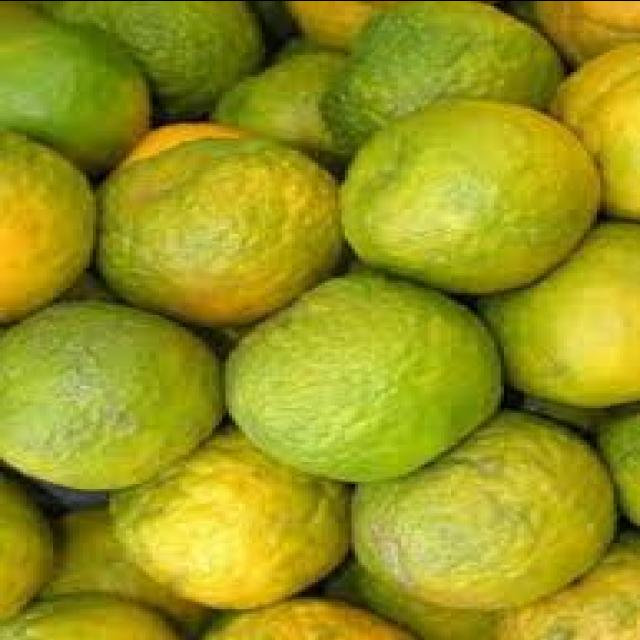orange: (223, 266, 501, 490)
